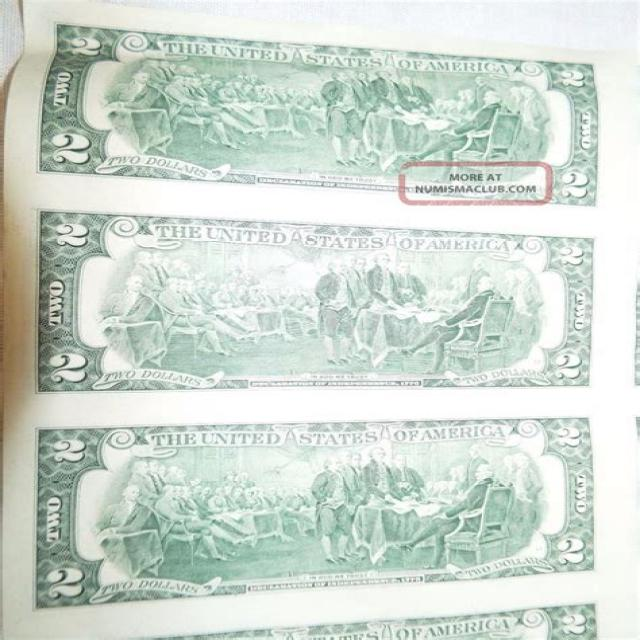Two: (11, 3, 620, 225), (4, 405, 624, 621), (5, 195, 621, 408)
